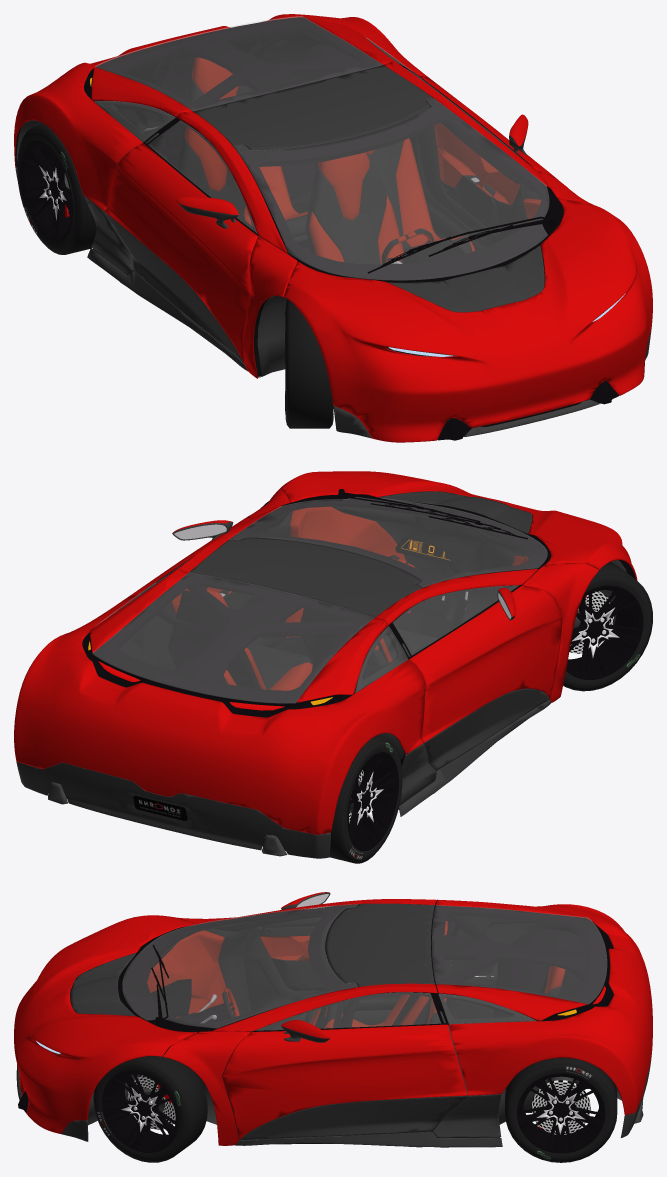
The model's file is car-model.glb.
3 views of the same model, one above another, from view 1: azimuth 30°, elevation 25°; view 2: azimuth 150°, elevation 25°; view 3: azimuth 270°, elevation 25° (orthographic). The views are drawn at different scales.
Visible parts, largest first — view 1: BodyHood, BodyWindshield, BodyRearwindow, BodyDoorRColor1, BodyRearPanelsColor1, BodyRoofPanel, BodyWindshieldGasket, InteriorSeatsColor1, InteriorSeatsColor2, BodyPillars, InteriorPillar, InteriorRearHatch (+21 smaller); view 2: BodyRearPanelsColor1, BodyRearwindow, BodyWindshield, BodyDoorRColor1, BodyPanelsColor2, BodyRoofPanel, BodyHood, InteriorRearHatch, BodyPillars, InteriorPillar, BodyWindshieldGasket, InteriorDashMid (+22 smaller); view 3: BodyRearPanelsColor1, BodyWindshield, BodyDoorLColor1, BodyHood, BodyRearwindow, BodyRoofPanel, BodyPillars, BodyWindshieldGasket, BodyDoorLColor2, BodyPanelsColor2, WheelFrontL, InteriorRearHatch (+25 smaller).
Part boxes in pixels (x1,y1,x2,y2): BodyHood: [283, 198, 652, 442]; BodyWindshield: [234, 98, 549, 280]; BodyRearwindow: [95, 16, 382, 110]; BodyDoorRColor1: [104, 143, 257, 363]; BodyRearPanelsColor1: [14, 14, 428, 210]; BodyRoofPanel: [193, 65, 432, 150]; BodyWindshieldGasket: [234, 99, 563, 282]; InteriorSeatsColor1: [185, 57, 475, 264]; InteriorSeatsColor2: [180, 78, 472, 264]; BodyPillars: [176, 61, 598, 378]; InteriorPillar: [158, 37, 434, 168]; InteriorRearHatch: [93, 17, 383, 117]; BodyRearPanelsColor1: [14, 569, 425, 834]; BodyRearwindow: [92, 573, 373, 703]; BodyWindshield: [229, 497, 547, 587]; BodyDoorRColor1: [409, 585, 562, 742]; BodyPanelsColor2: [16, 700, 550, 858]; BodyRoofPanel: [189, 537, 422, 617]; BodyHood: [279, 471, 637, 580]; InteriorRearHatch: [93, 573, 386, 707]; BodyPillars: [175, 489, 599, 702]; InteriorPillar: [174, 574, 417, 682]; BodyWindshieldGasket: [230, 497, 550, 587]; InteriorDashMid: [331, 503, 528, 622]; BodyRearPanelsColor1: [436, 899, 652, 1115]; BodyWindshield: [122, 904, 357, 1028]; BodyDoorLColor1: [222, 1024, 467, 1139]; BodyHood: [14, 915, 196, 1133]; BodyRearwindow: [432, 905, 606, 1003]; BodyRoofPanel: [326, 903, 434, 986]; BodyPillars: [163, 899, 437, 1145]; BodyWindshieldGasket: [118, 905, 357, 1032]; BodyDoorLColor2: [240, 1096, 467, 1140]; BodyPanelsColor2: [16, 1045, 652, 1147]; WheelFrontL: [93, 1054, 207, 1162]; InteriorRearHatch: [431, 905, 606, 1020].
Size of the model in its own units: 2.54 by 1.15 by 4.36.
23 materials, 6 textured.
